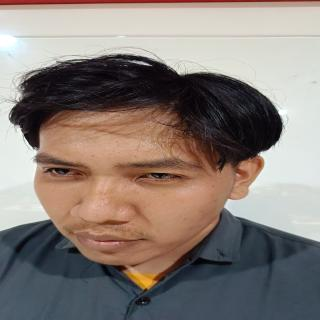Marah: (27, 91, 237, 272)
